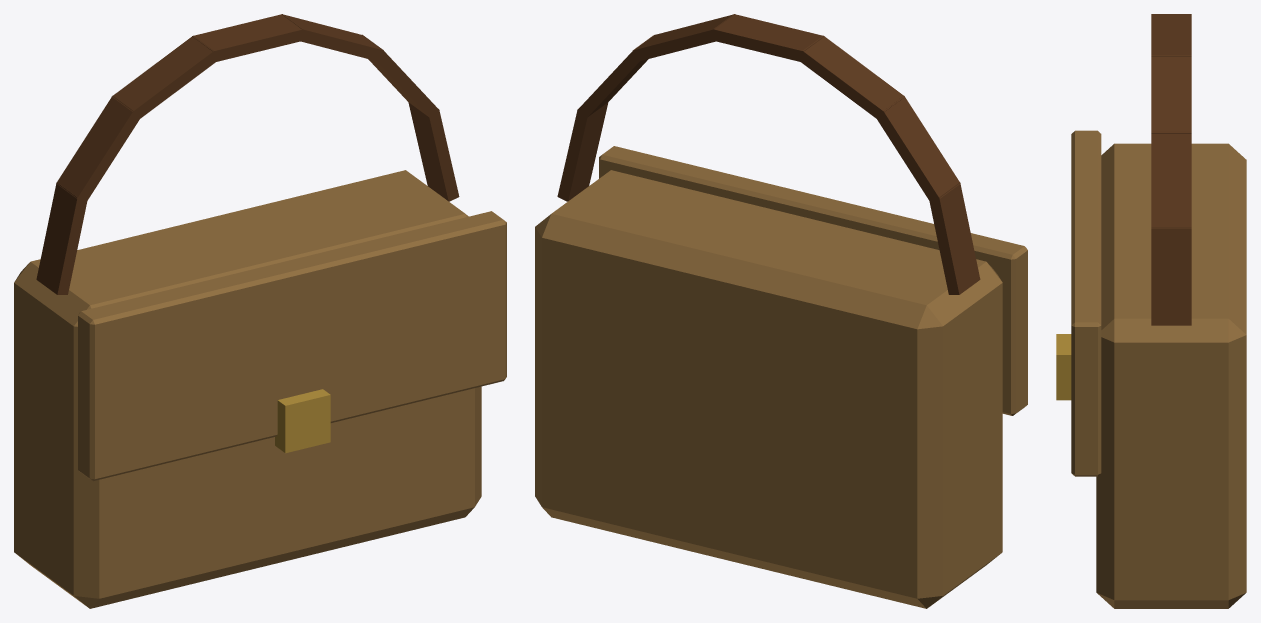
The model's file is Prop_Par_MailBag.glb.
3 renders of one model, left to right at view 1: azimuth 30°, elevation 25°; view 2: azimuth 150°, elevation 25°; view 3: azimuth 270°, elevation 25°, orthographic. The views are drawn at different scales.
Parts seen in each view (by area): view 1: Prop_Par_MailBag; view 2: Prop_Par_MailBag; view 3: Prop_Par_MailBag.
Part boxes in pixels (left/top/right/bottom): Prop_Par_MailBag: left=14, top=14, right=506, bottom=608; Prop_Par_MailBag: left=535, top=14, right=1027, bottom=608; Prop_Par_MailBag: left=1056, top=14, right=1246, bottom=608.
Size of what is drawn, in the model's own units: 0.46 by 0.5363 by 0.19.
